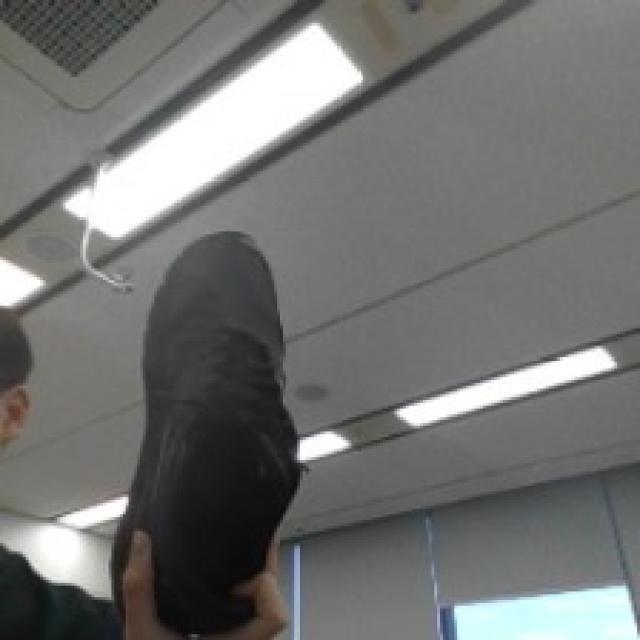shoe: (111, 228, 301, 638)
